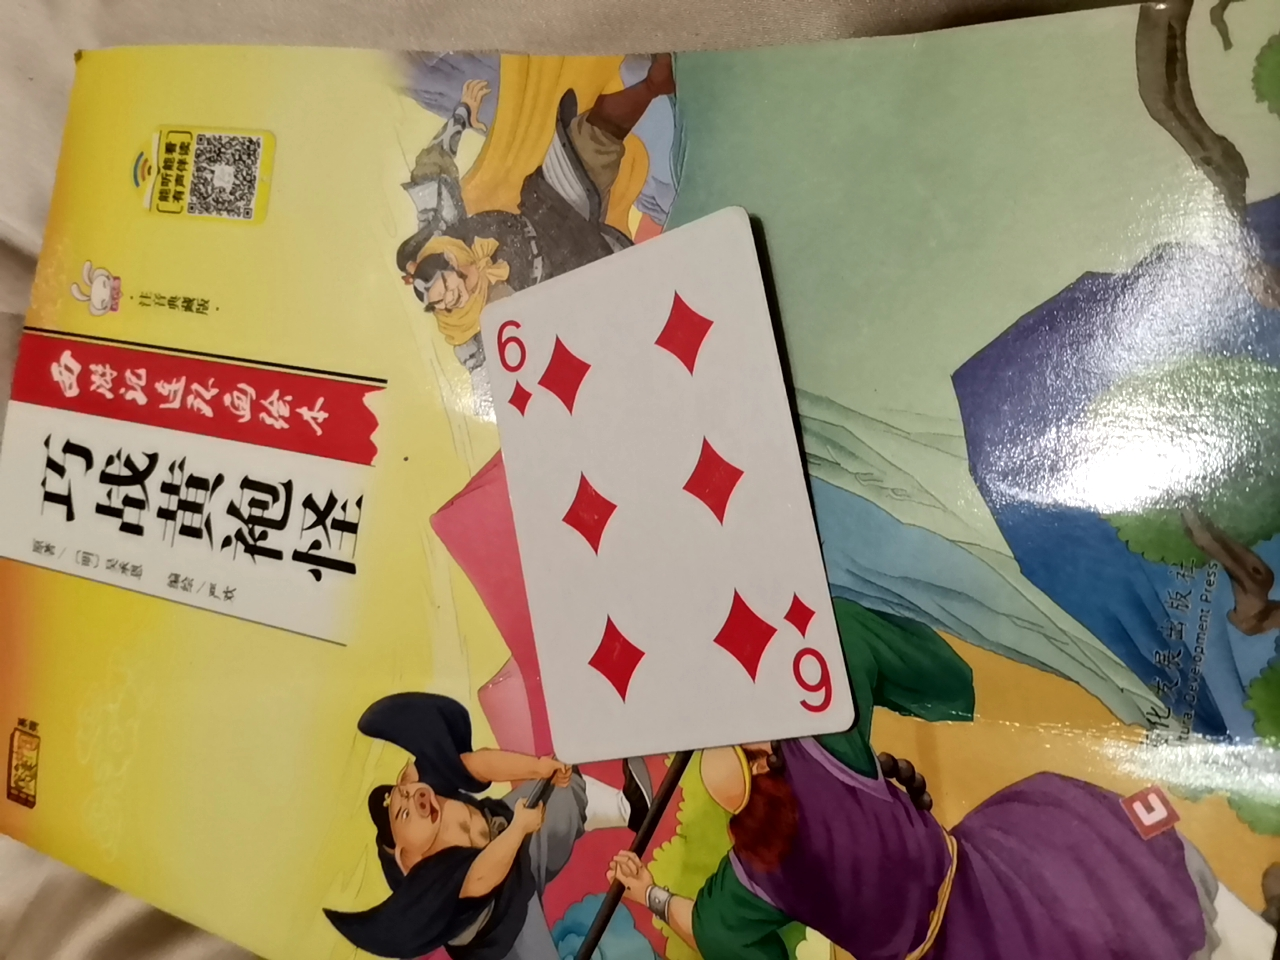fk 6: (503, 222, 846, 781)
